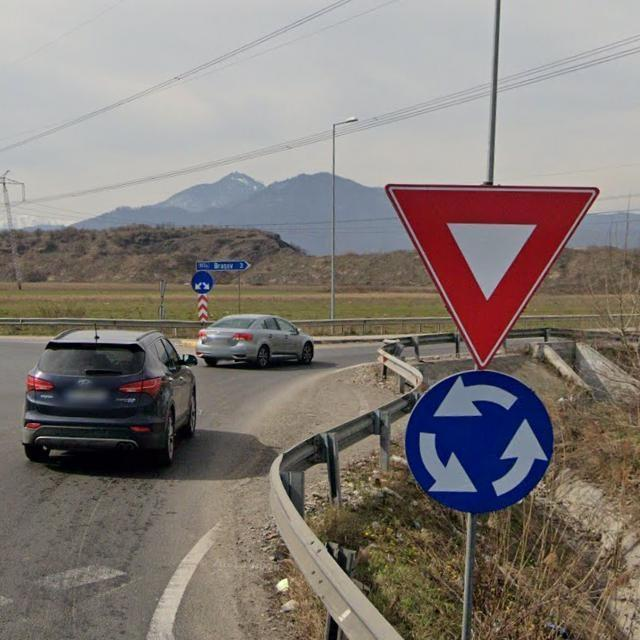prio_give_way: (385, 178, 599, 369)
